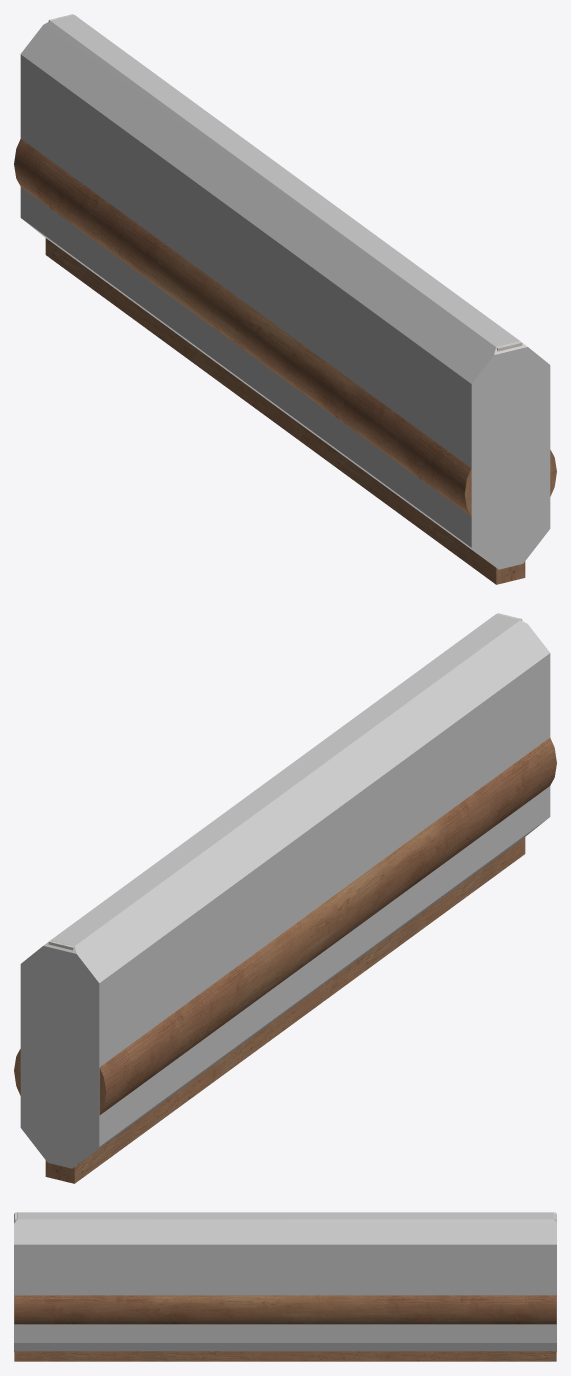
Rendered from SM_HBJ_BeamH.fbx.
The picture shows the model from 3 angles, top to bottom: view 1: azimuth 30°, elevation 25°; view 2: azimuth 150°, elevation 25°; view 3: azimuth 270°, elevation 25°; orthographic projection. The views are drawn at different scales.
Visible parts, largest first — view 1: SM_HBJ_BeamH_ConvexHulls, SM_HBJ_BeamH; view 2: SM_HBJ_BeamH_ConvexHulls, SM_HBJ_BeamH; view 3: SM_HBJ_BeamH_ConvexHulls, SM_HBJ_BeamH.
Part boxes in pixels (x1,y1,x2,y2): SM_HBJ_BeamH_ConvexHulls: [20, 15, 550, 569]; SM_HBJ_BeamH: [14, 14, 556, 584]; SM_HBJ_BeamH_ConvexHulls: [20, 614, 550, 1168]; SM_HBJ_BeamH: [14, 613, 556, 1183]; SM_HBJ_BeamH_ConvexHulls: [14, 1212, 556, 1351]; SM_HBJ_BeamH: [14, 1212, 556, 1361].
Size of the model in its own units: 30.86 by 261 by 75.2.
3 materials, 2 textured.
